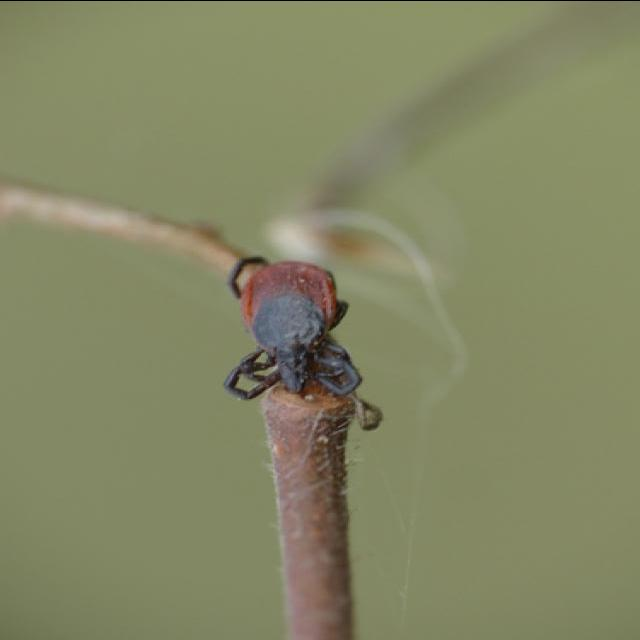Ixodes Ricinus-F: (225, 259, 364, 399)
